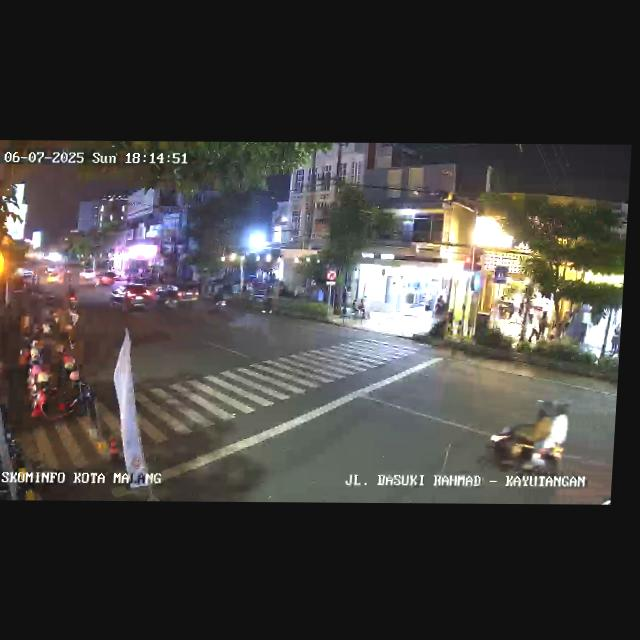car: (108, 282, 151, 312), (154, 283, 201, 310), (77, 271, 102, 288), (43, 267, 67, 284)
motorcycle: (485, 403, 571, 485), (211, 287, 232, 315), (66, 286, 79, 311)
person: (65, 309, 82, 349), (261, 285, 275, 315), (537, 308, 549, 341), (527, 311, 538, 346), (611, 323, 621, 358)
